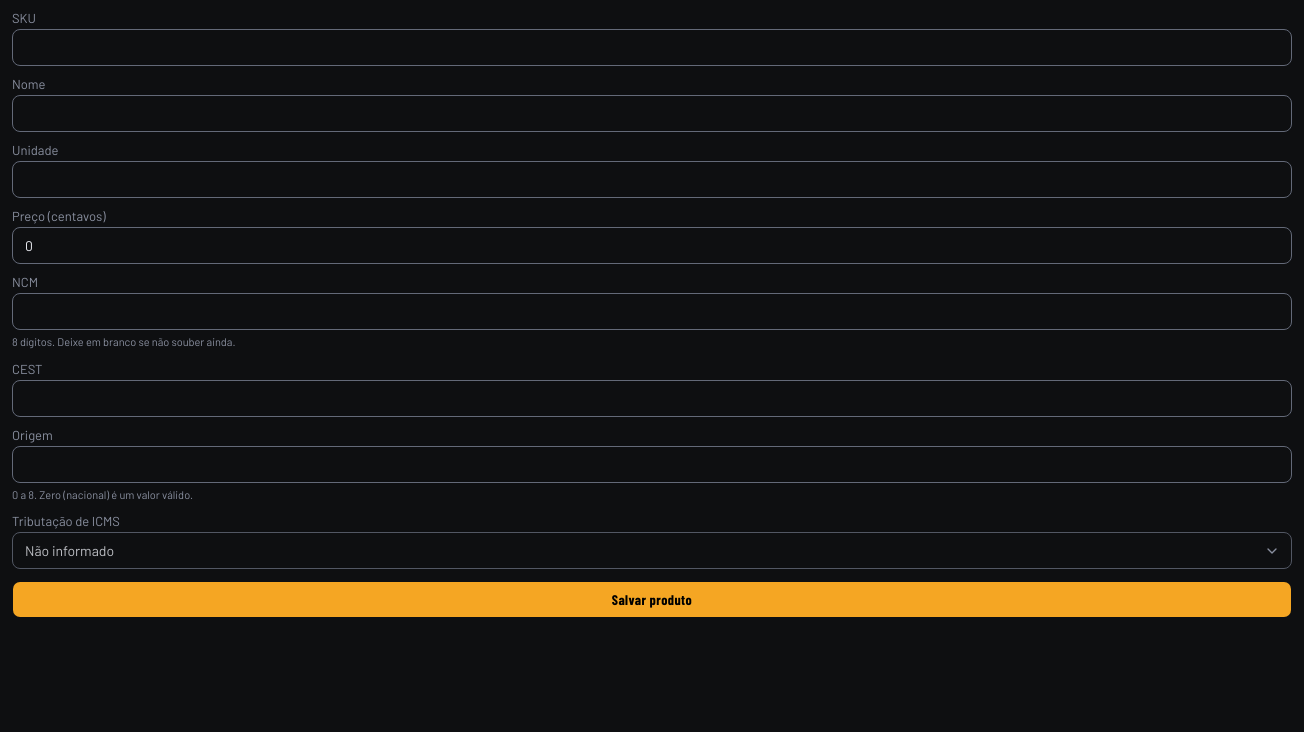
Scenario: produtos › limite do plano aparece como alerta
Type "SKU-1" into the field labelled "SKU" at (652, 48), box [12,29,1292,66]
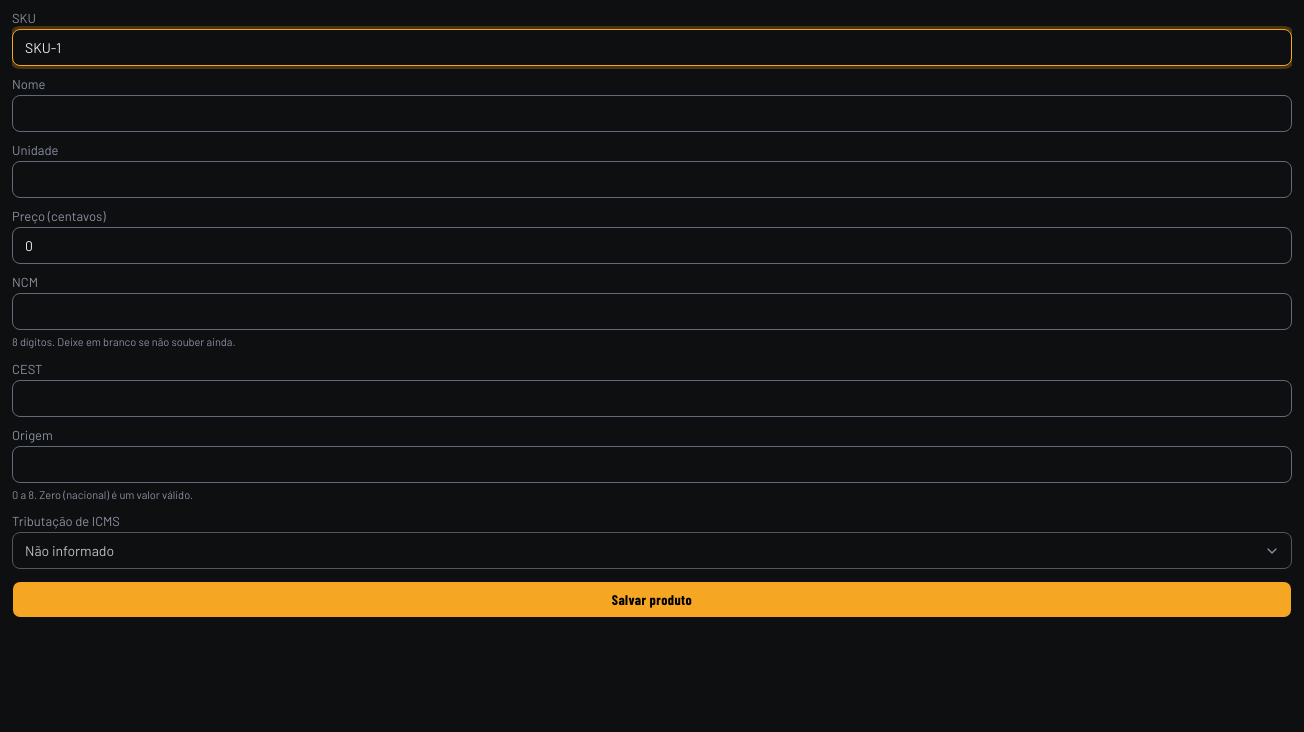
Type "Parafuso" into the field labelled "Nome" at (652, 114), box [12,95,1292,132]
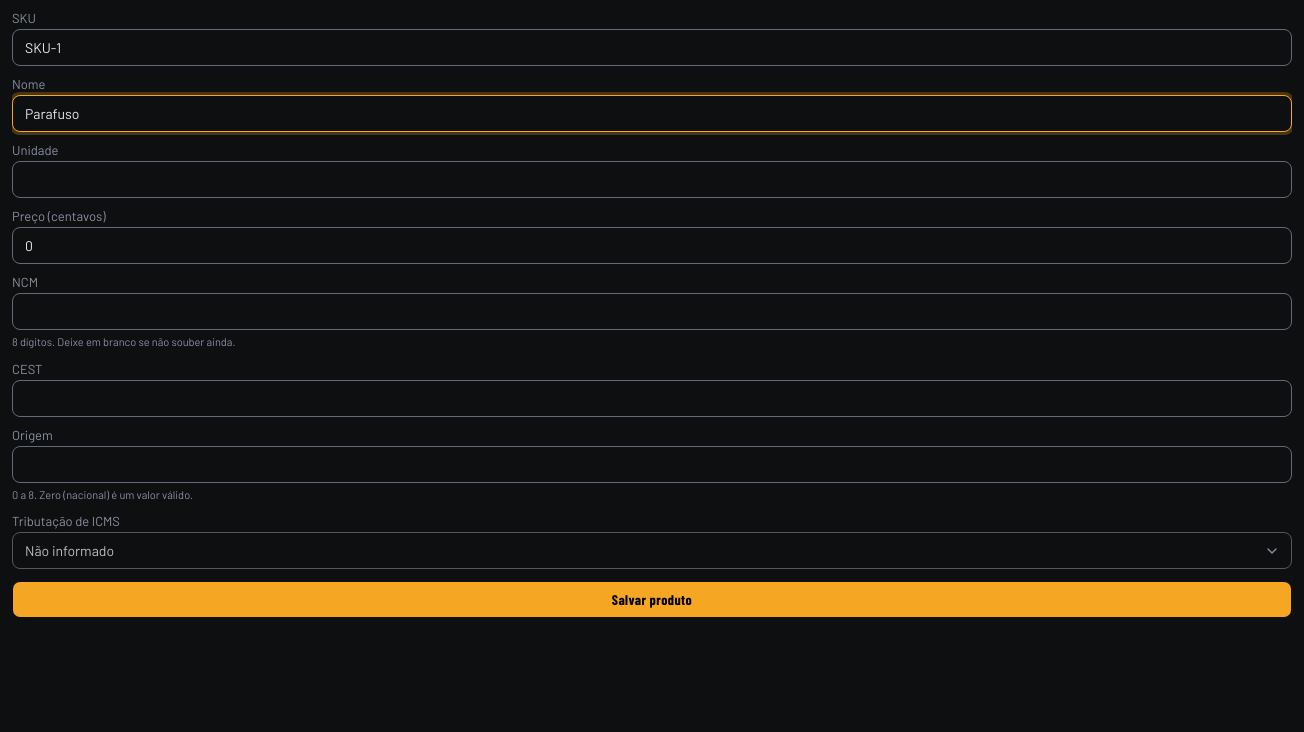
Type "UN" into the field labelled "Unidade" at (652, 180), box [12,161,1292,198]
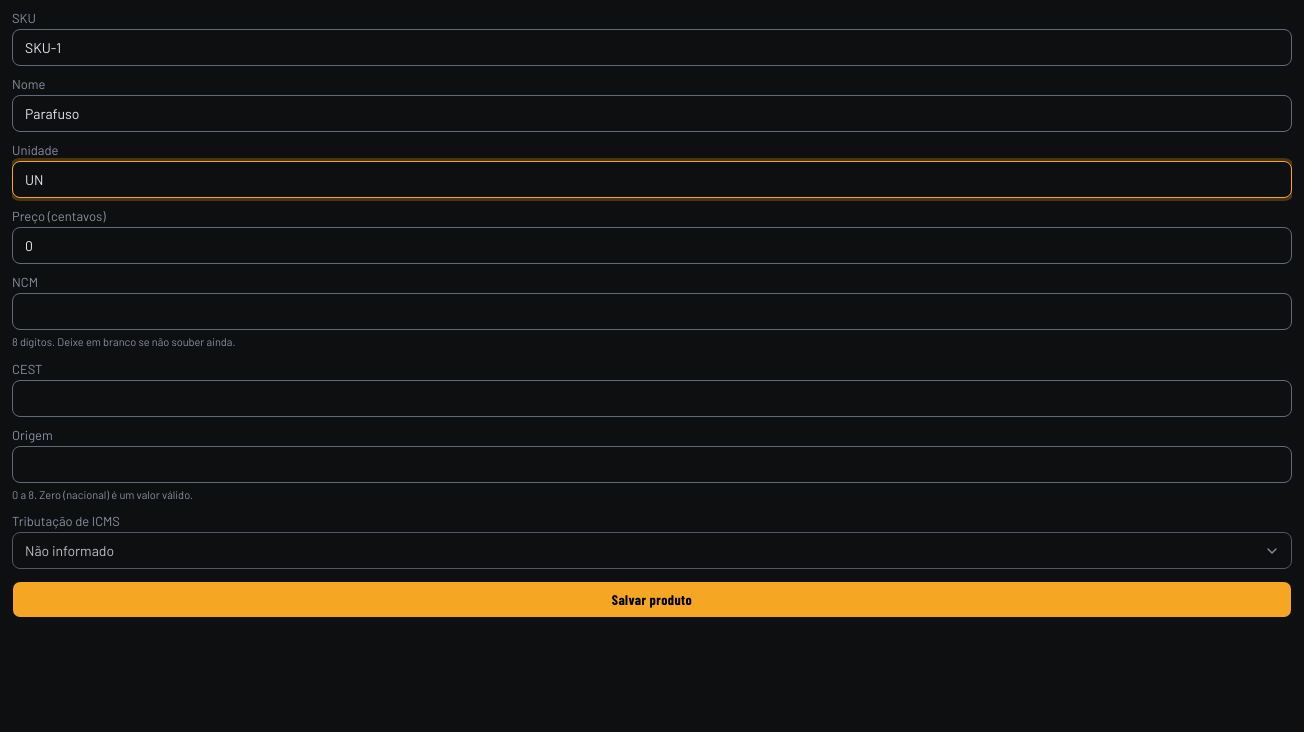
Type "500" into the number field labelled "Preço (centavos)" at (652, 246), box [12,227,1292,264]
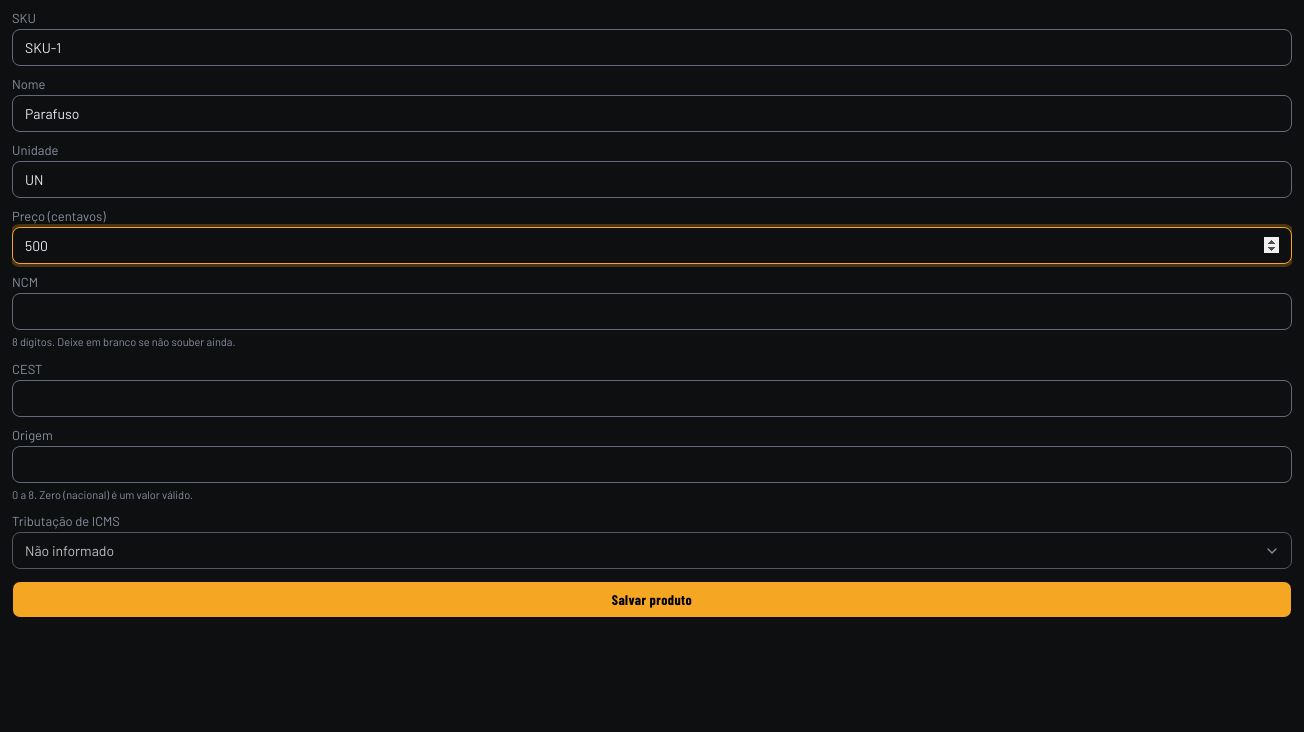
Click the button "Salvar produto" at (652, 600), box [12,581,1292,618]
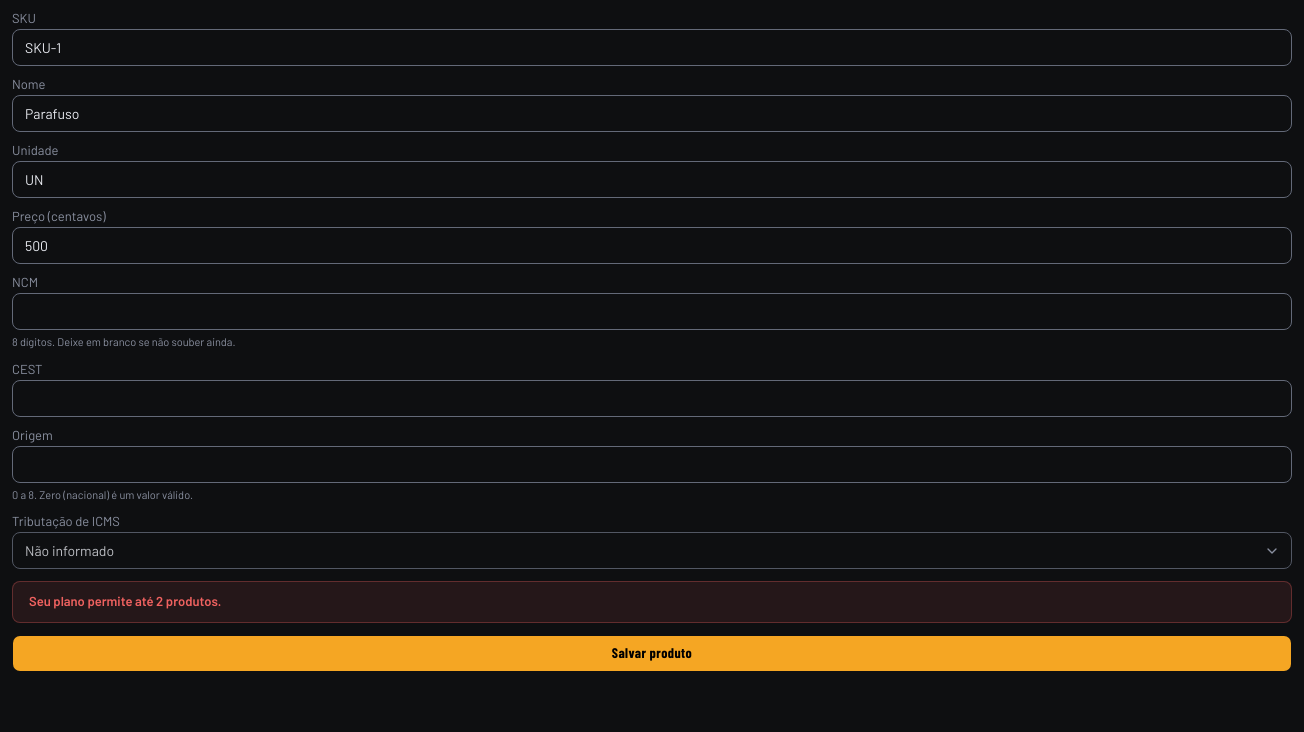
Now the message reads "Seu plano permite até 2 produtos.", box [29,593,221,609]
